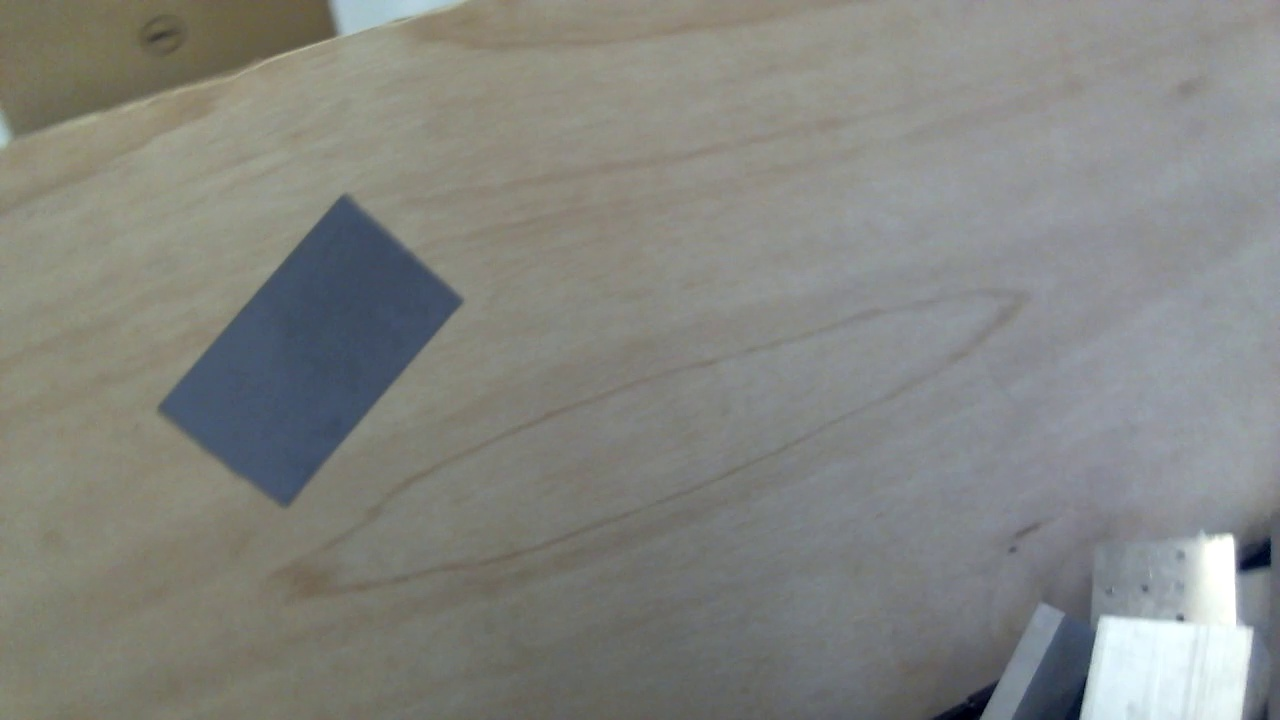Tape: (154, 191, 466, 511)
